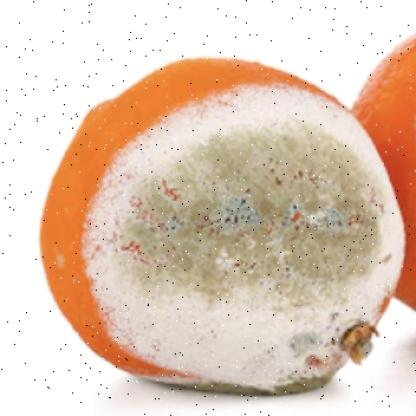rotten: (42, 57, 408, 398)
